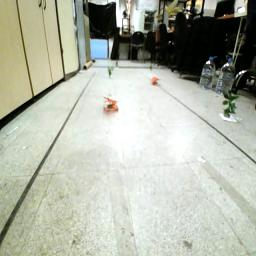herb: (224, 93, 240, 119), (152, 77, 162, 87), (108, 68, 115, 77)
wild: (105, 96, 122, 114)
